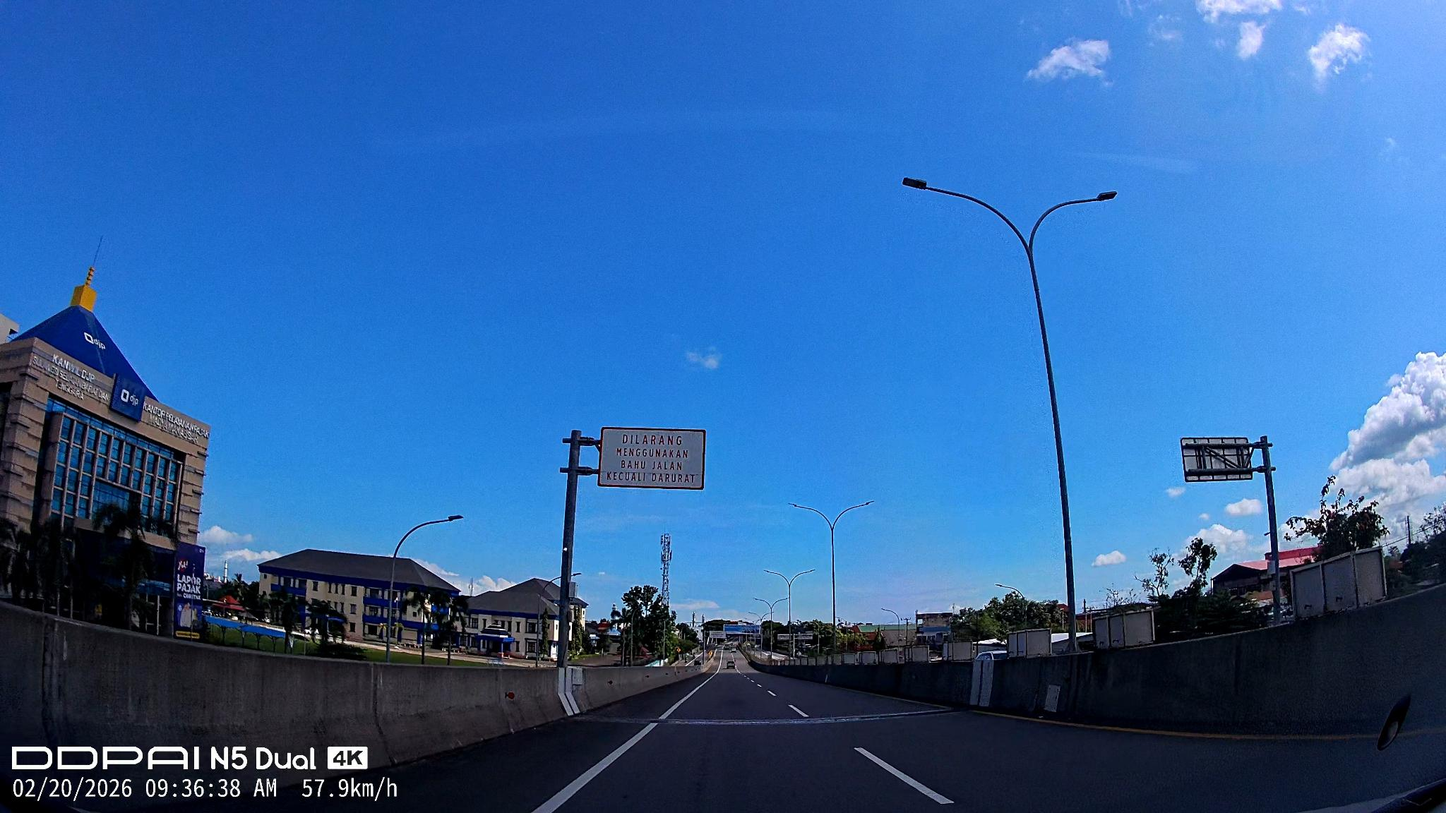rambu_teks: (597, 426, 707, 490)
